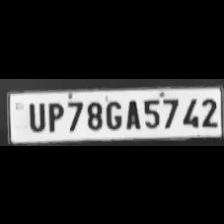2: (199, 94, 219, 128)
4: (178, 94, 200, 128)
5: (140, 94, 160, 128)
7: (63, 98, 83, 132), (160, 94, 178, 128)
8: (83, 97, 103, 130)
A: (123, 96, 141, 130)
G: (102, 97, 122, 129)
P: (44, 99, 64, 131)
U: (24, 99, 46, 131)
